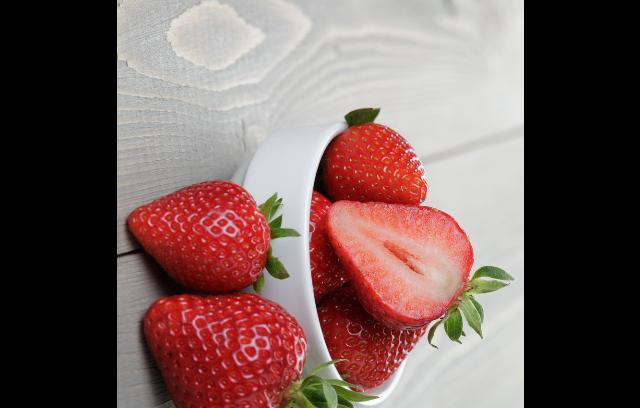Strawberries: (143, 297, 308, 408), (125, 181, 271, 291), (322, 300, 430, 386), (328, 124, 428, 204)
